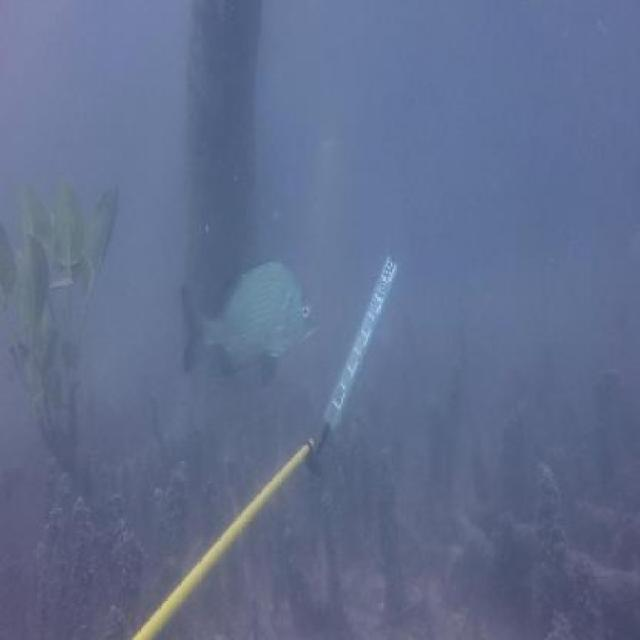acanthopagrus_palmaris: (179, 253, 318, 384)
